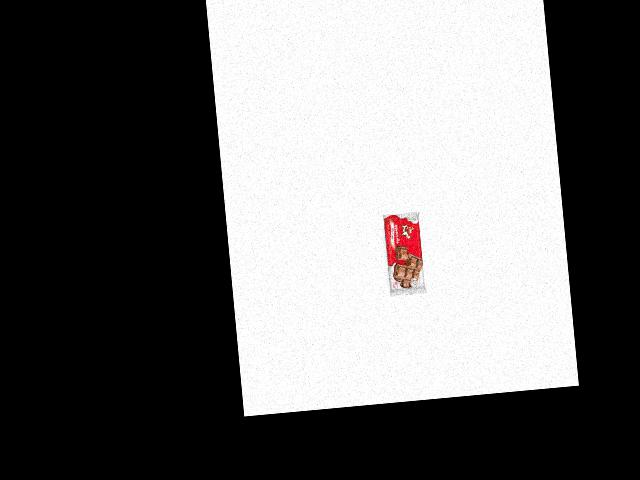chocolate: (382, 210, 427, 299)
